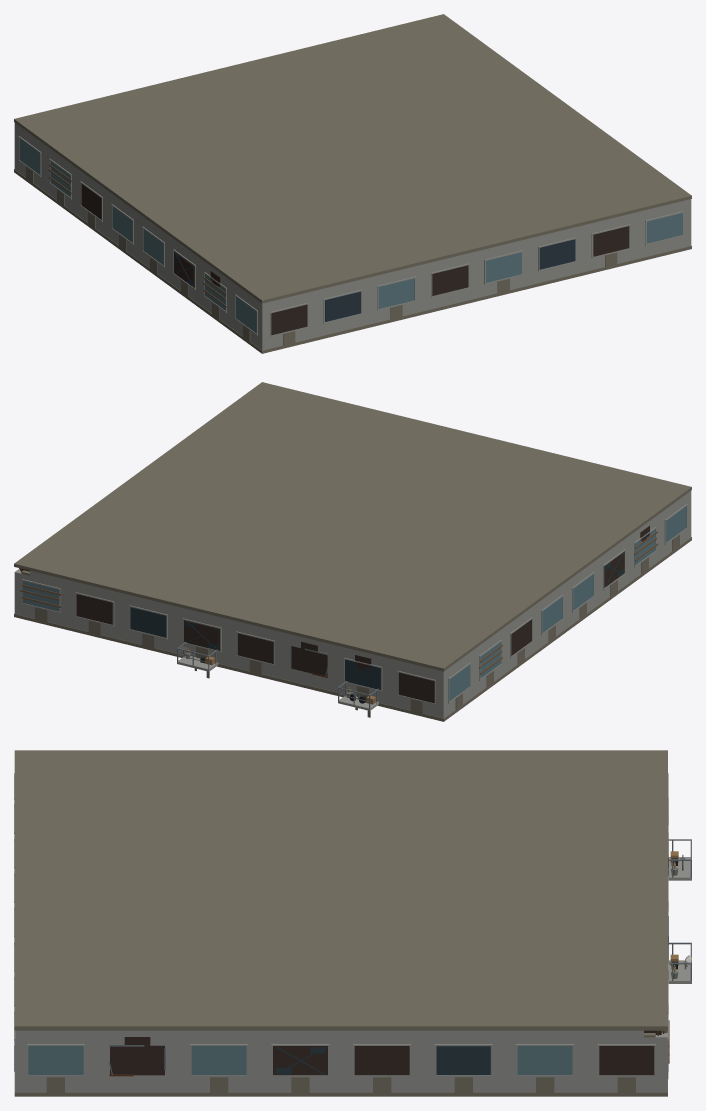
The model's file is tw_slab_32_floor_c.glb.
The picture shows the model from 3 angles, top to bottom: view 1: azimuth 30°, elevation 25°; view 2: azimuth 150°, elevation 25°; view 3: azimuth 270°, elevation 25°; orthographic projection. The views are drawn at different scales.
Visible parts, largest first — view 1: tw_slab_32_floor_c; view 2: tw_slab_32_floor_c; view 3: tw_slab_32_floor_c.
Boxes of the visible parts, box(x1,y1,x2,y2) form: tw_slab_32_floor_c: box(14, 14, 691, 353); tw_slab_32_floor_c: box(14, 382, 691, 721); tw_slab_32_floor_c: box(14, 750, 691, 1096).
Size of the model in its own units: 32.17 by 4.78 by 33.26.
Materials: 3 (3 with a texture image).
